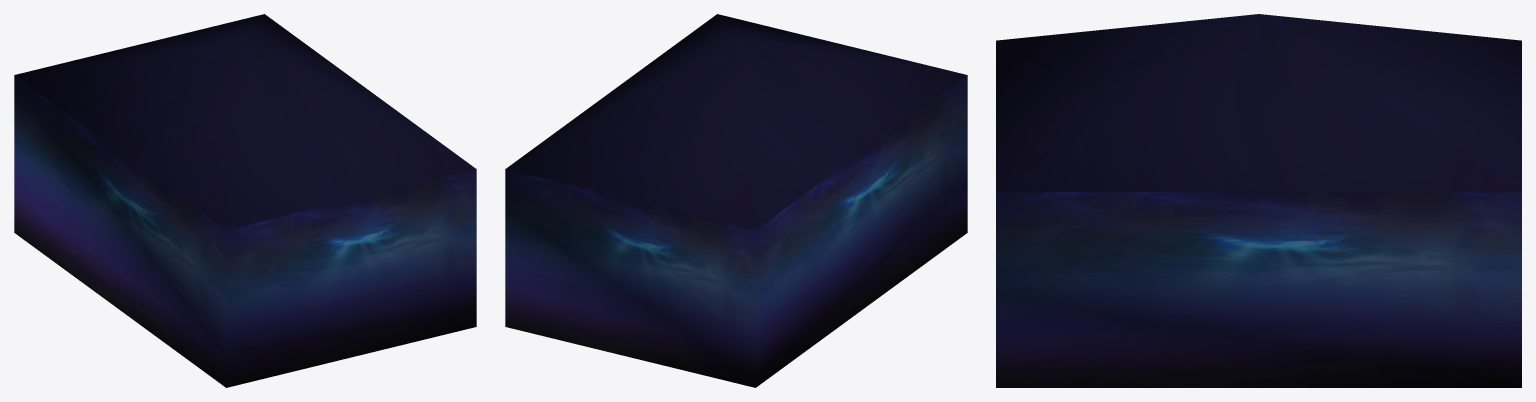
File: sky_box.FBX
3 views of the same model, side by side, from view 1: azimuth 30°, elevation 25°; view 2: azimuth 150°, elevation 25°; view 3: azimuth 270°, elevation 25° (orthographic). The views are drawn at different scales.
Parts seen in each view (by area): view 1: sky; view 2: sky; view 3: sky.
Part boxes in pixels (x1,y1,x2,y2): sky: (14, 14, 476, 387); sky: (505, 14, 967, 387); sky: (996, 14, 1521, 387).
Bounding box in the file's own units: 7118 × 6535 × 10440.
